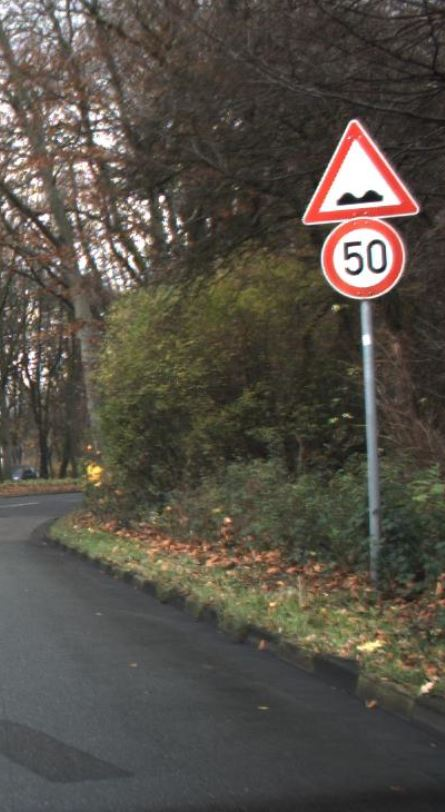50 Km Hiz Siniri: (318, 215, 407, 308)
Kasisli Yol: (300, 124, 423, 224)
